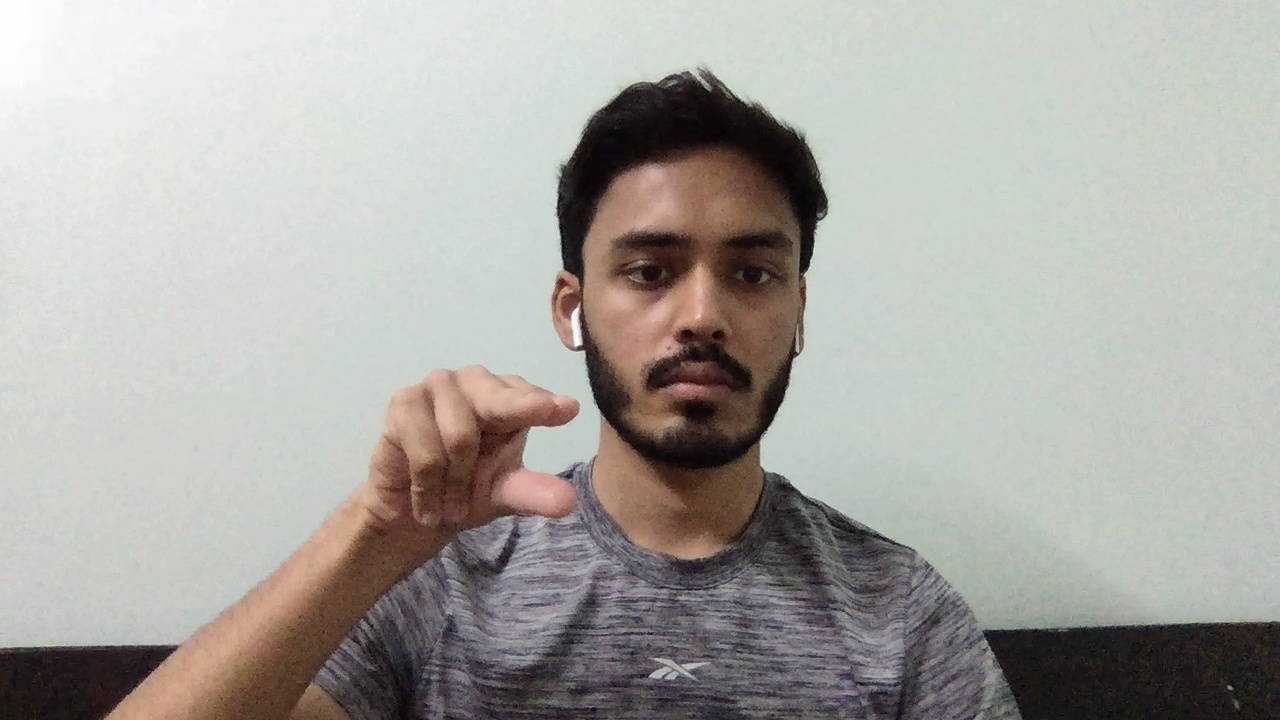No: (339, 354, 595, 553)
